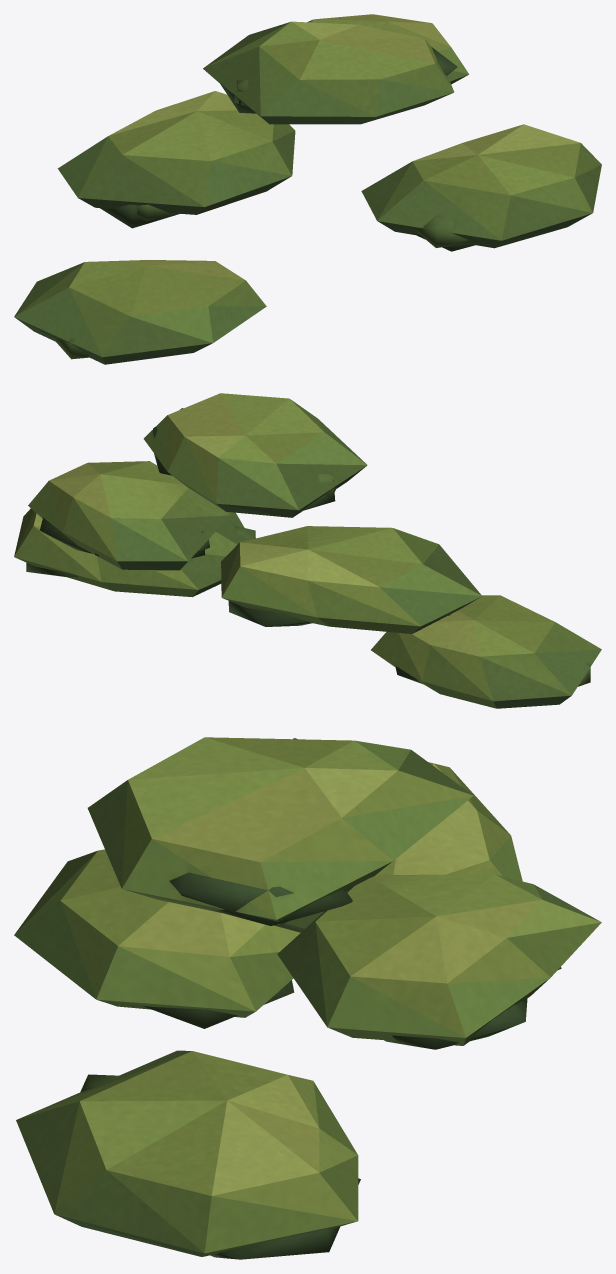
The model's file is Grand_Dojo_Arrival_Pine_Canopy_LOD1.glb.
The picture shows the model from 3 angles, top to bottom: view 1: azimuth 30°, elevation 25°; view 2: azimuth 150°, elevation 25°; view 3: azimuth 270°, elevation 25°; orthographic projection. The views are drawn at different scales.
Visible parts, largest first — view 1: Grand Dojo Arrival Pine Canopy LOD1; view 2: Grand Dojo Arrival Pine Canopy LOD1; view 3: Grand Dojo Arrival Pine Canopy LOD1.
Part boxes in pixels (x1=…): Grand Dojo Arrival Pine Canopy LOD1: x1=14, y1=14, x2=601, y2=364; Grand Dojo Arrival Pine Canopy LOD1: x1=14, y1=393, x2=601, y2=708; Grand Dojo Arrival Pine Canopy LOD1: x1=14, y1=737, x2=601, y2=1259.
Size of the model in its own units: 13.35 by 5.01 by 7.08.
Materials: 1 (1 with a texture image).
